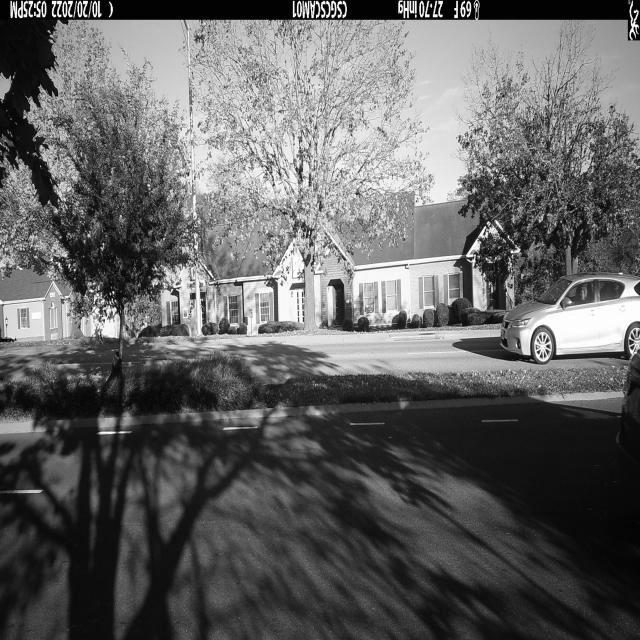Hatchback: (501, 272, 640, 365)
